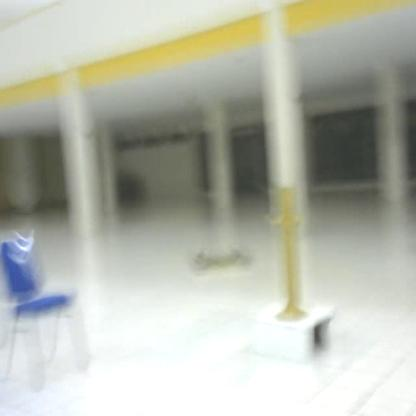pole: (268, 184, 313, 325)
